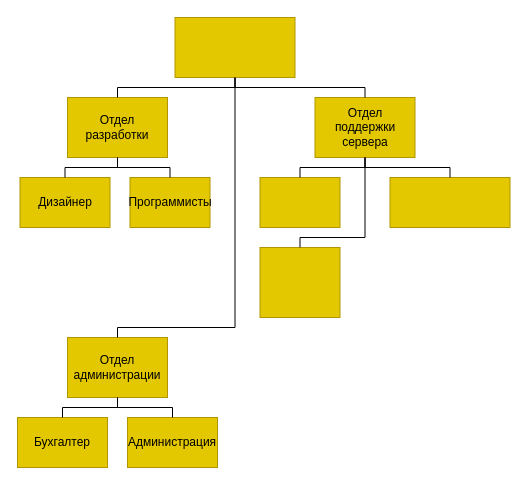
Image size: 528x485. Some labels were removed from this diagram. Here are the shapes that lost their labels. From the top down, the centre of each, then its label:
At [234,47]: "Директор".
At [299,202]: "Системный администратор".
At [449,202]: "Специалист по тех поддержке серверов".
At [299,282]: "Специалист по управление базами данных".
